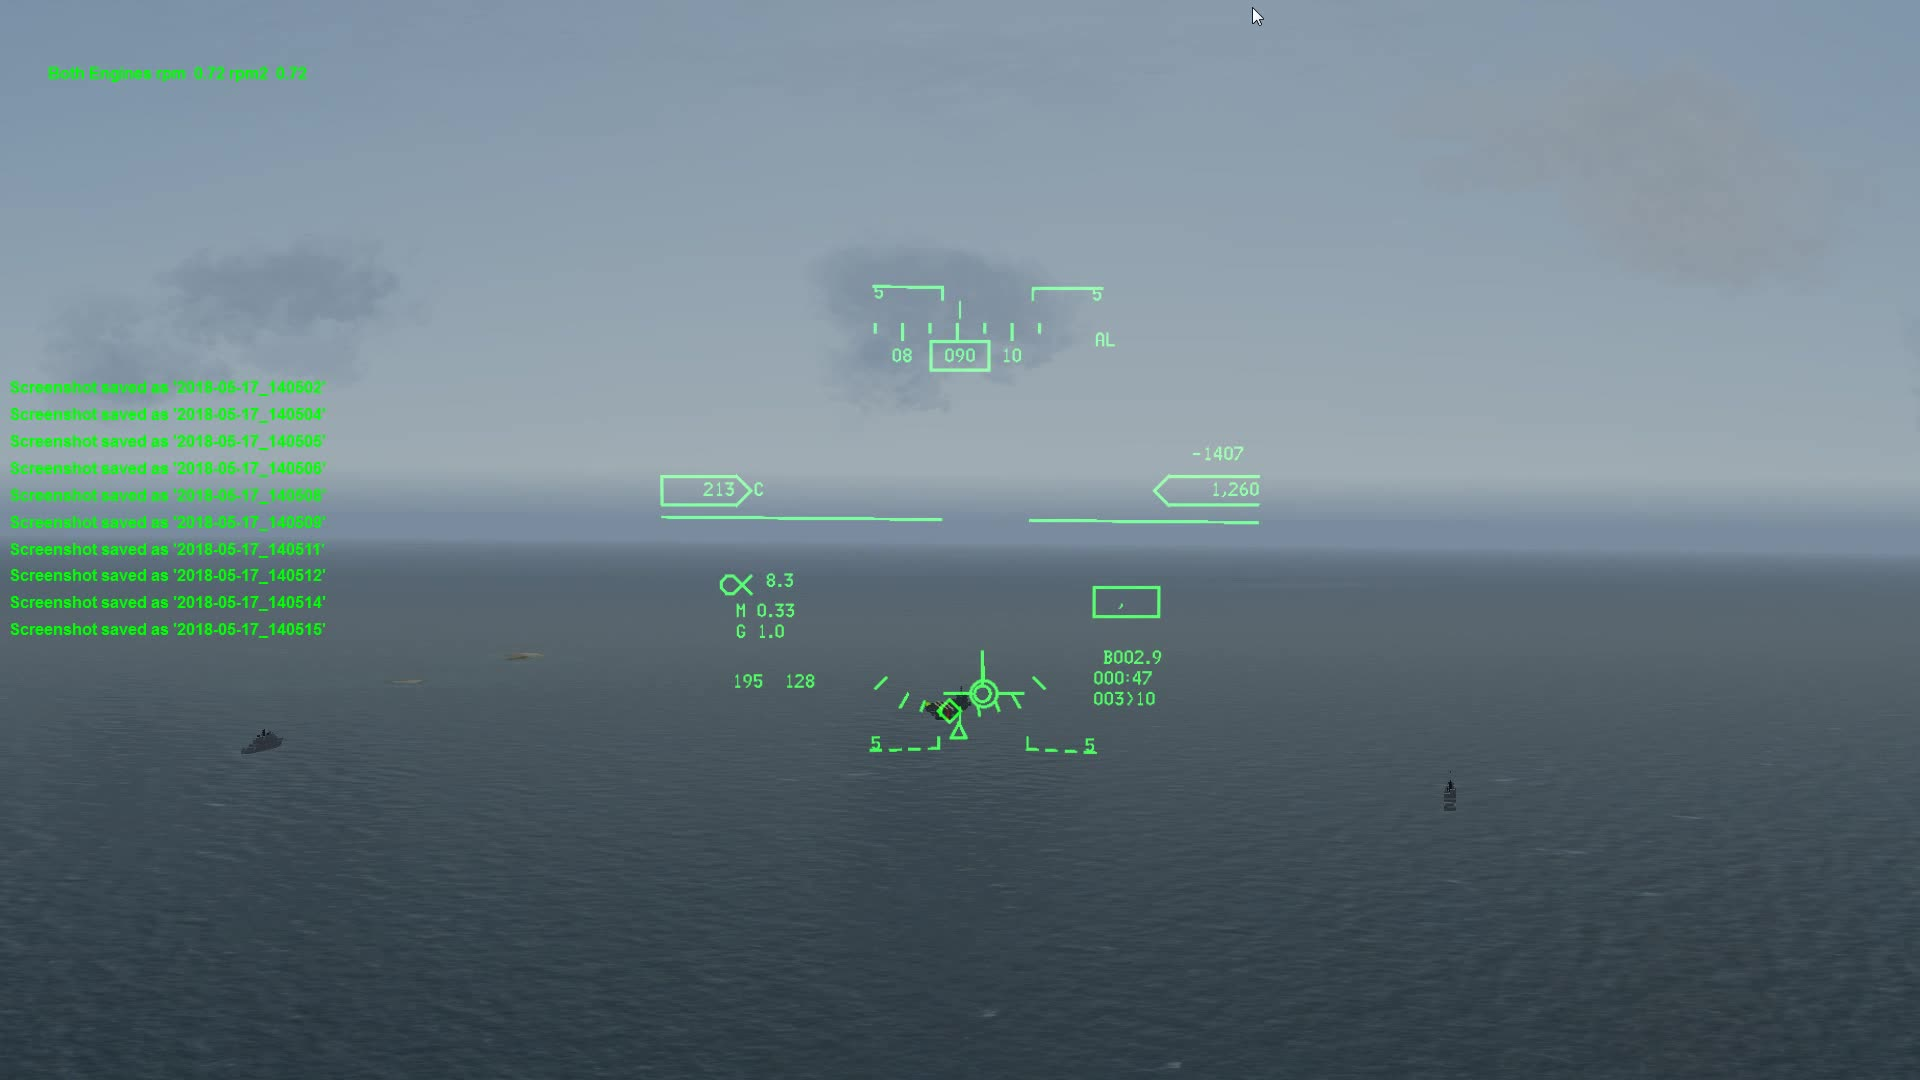speed vector: (938, 649, 1015, 709)
